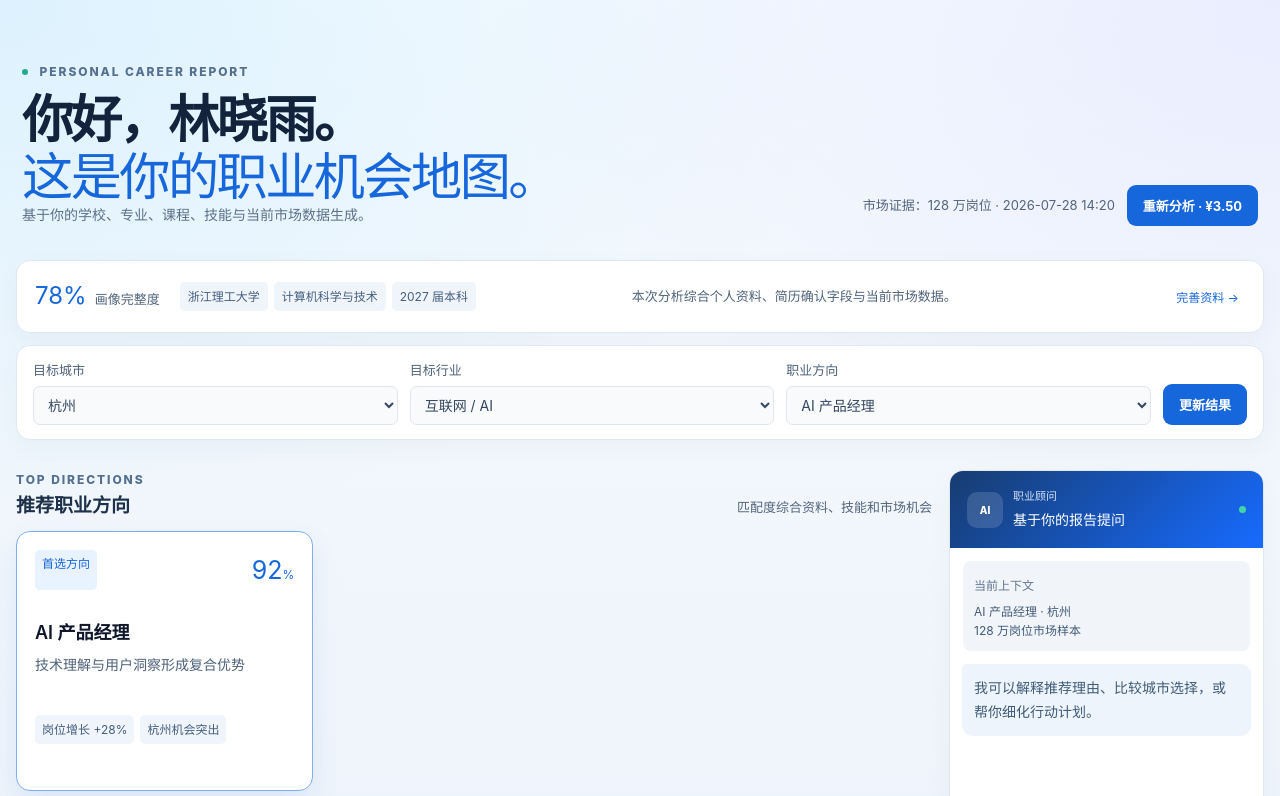
Test case: CareerAnalysisView › stops an unknown report status instead of polling forever
Click the button with test id "generate-analysis": (1192, 206) [1127,185,1258,226]
Wait 12000 ms
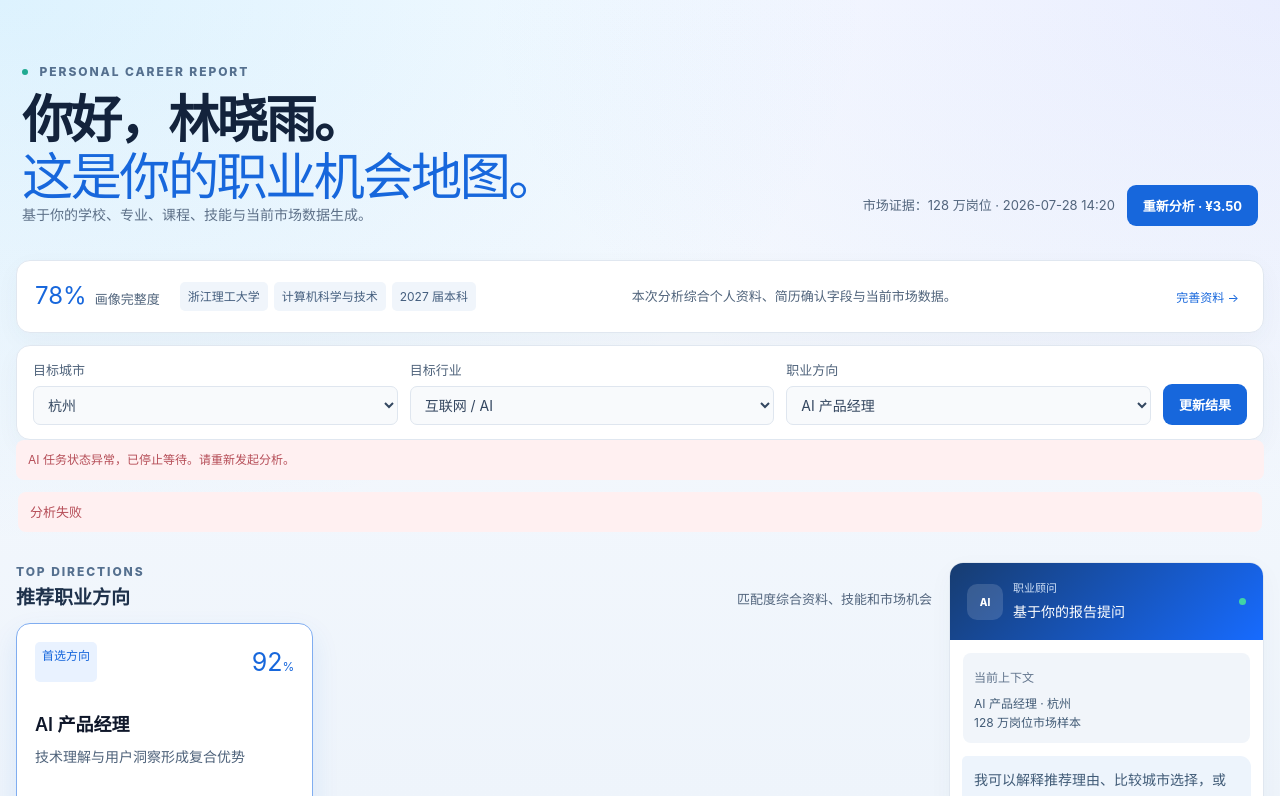
Now the text with class "error-message" shows "任务状态异常", box [28,452,295,467]
